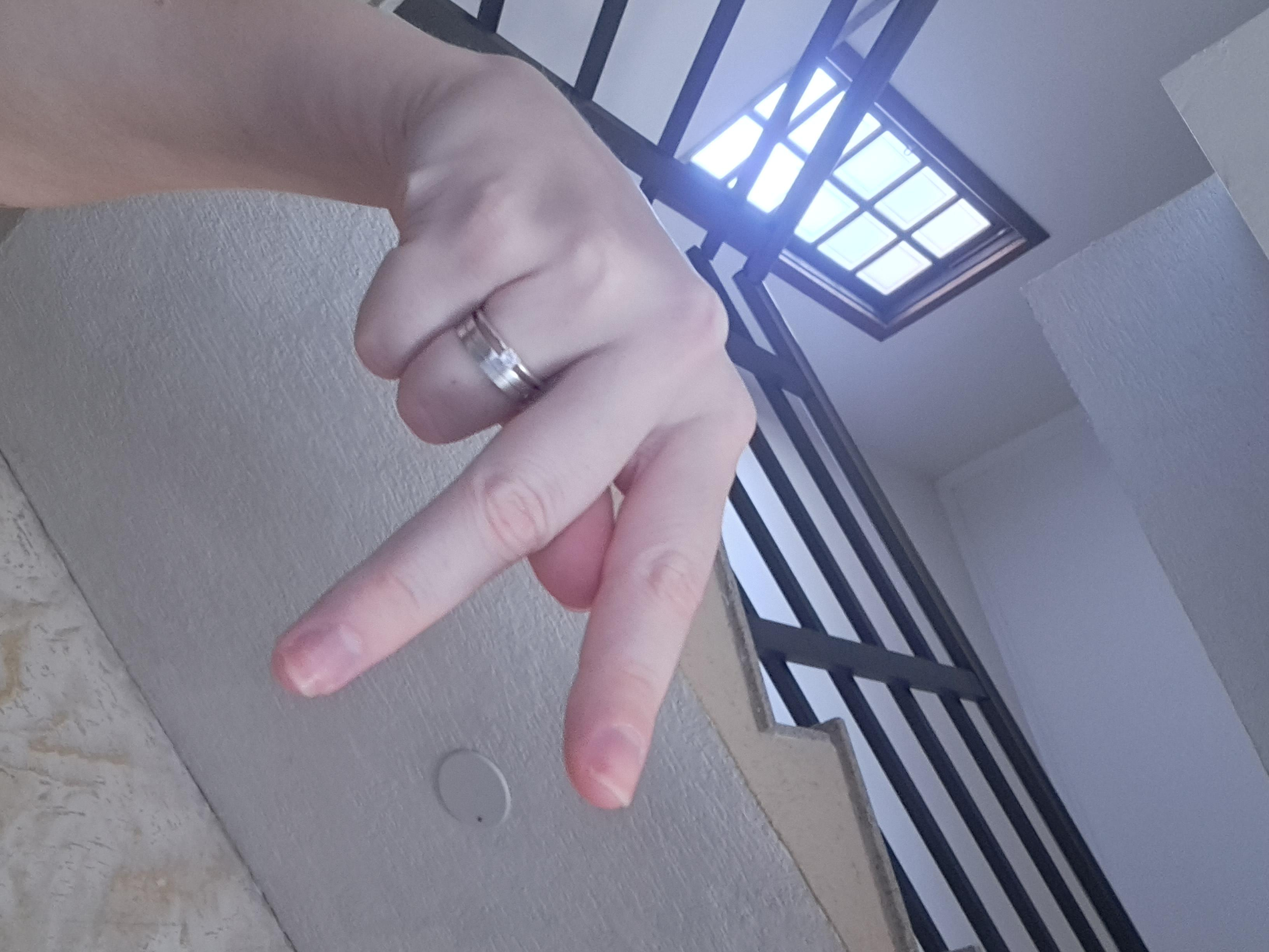P: (109, 373, 1120, 761)
